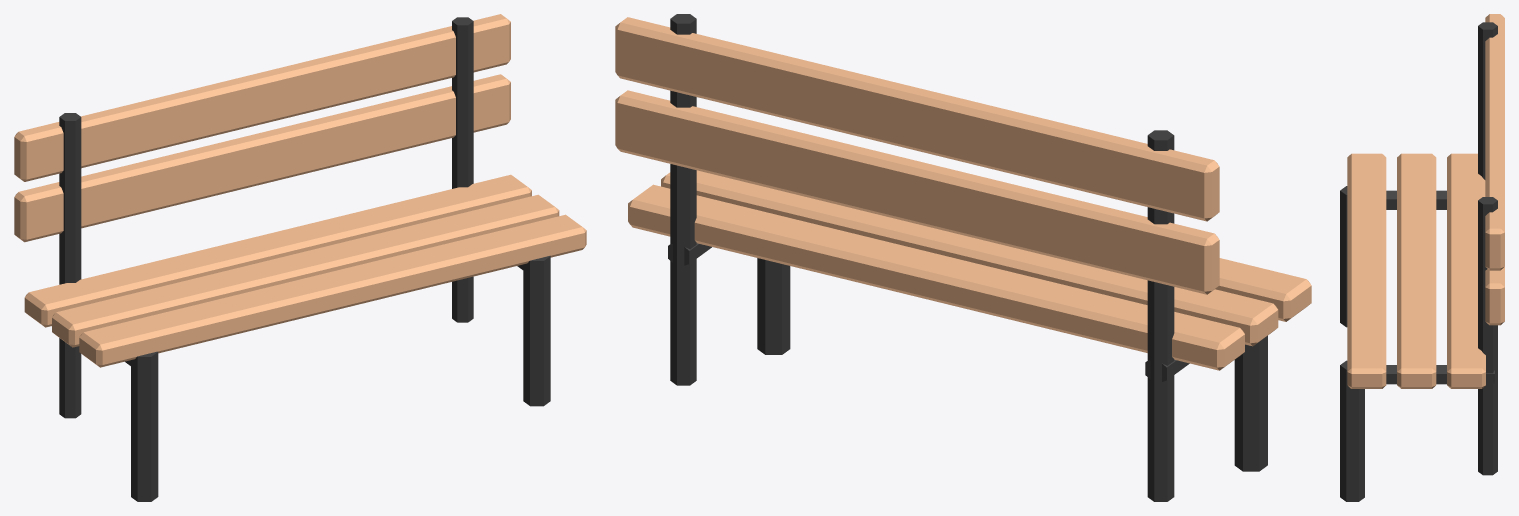
3 views of the same model, side by side, from view 1: azimuth 30°, elevation 25°; view 2: azimuth 150°, elevation 25°; view 3: azimuth 270°, elevation 25° (orthographic). The views are drawn at different scales.
Visible parts, largest first — view 1: Back slat.001, Back slat, Seat slat, Seat slat.001, Seat slat.002, Back support, Back support.001, Front leg.001, Front leg; view 2: Back slat, Back slat.001, Seat slat.002, Seat slat.001, Back support, Back support.001, Front leg, Seat slat, Front leg.001; view 3: Seat slat, Seat slat.001, Seat slat.002, Back slat.001, Back support.001, Front leg.001, Back support, Back slat, Front leg, Seat cross support.001, Seat cross support.
Boxes of the visible parts, box(x1,y1,x2,y2) form: Back slat.001: box(14, 14, 510, 181); Back slat: box(14, 74, 510, 242); Seat slat: box(79, 214, 586, 367); Seat slat.001: box(52, 194, 559, 347); Seat slat.002: box(24, 174, 531, 327); Back support: box(59, 113, 81, 418); Back support.001: box(452, 17, 473, 322); Front leg.001: box(523, 256, 550, 406); Front leg: box(131, 351, 158, 501); Back slat: box(615, 90, 1219, 294); Back slat.001: box(615, 17, 1219, 221); Seat slat.002: box(628, 184, 1244, 370); Seat slat.001: box(661, 170, 1278, 346); Back support: box(1147, 130, 1174, 501); Back support.001: box(670, 14, 696, 385); Front leg: box(1234, 335, 1267, 471); Seat slat: box(1215, 258, 1311, 321); Front leg.001: box(757, 258, 790, 354); Seat slat: box(1347, 153, 1386, 388); Seat slat.001: box(1397, 153, 1436, 388); Seat slat.002: box(1447, 153, 1485, 388); Back slat.001: box(1485, 14, 1504, 270); Back support.001: box(1478, 197, 1497, 475); Front leg.001: box(1340, 360, 1364, 501); Back support: box(1478, 22, 1497, 179); Back slat: box(1485, 267, 1504, 325); Front leg: box(1340, 186, 1347, 327); Seat cross support.001: box(1386, 365, 1494, 384); Seat cross support: box(1386, 190, 1446, 209).
Bounding box in the file's own units: 1.45 × 0.92 × 0.4625.
1 material, 1 textured.
